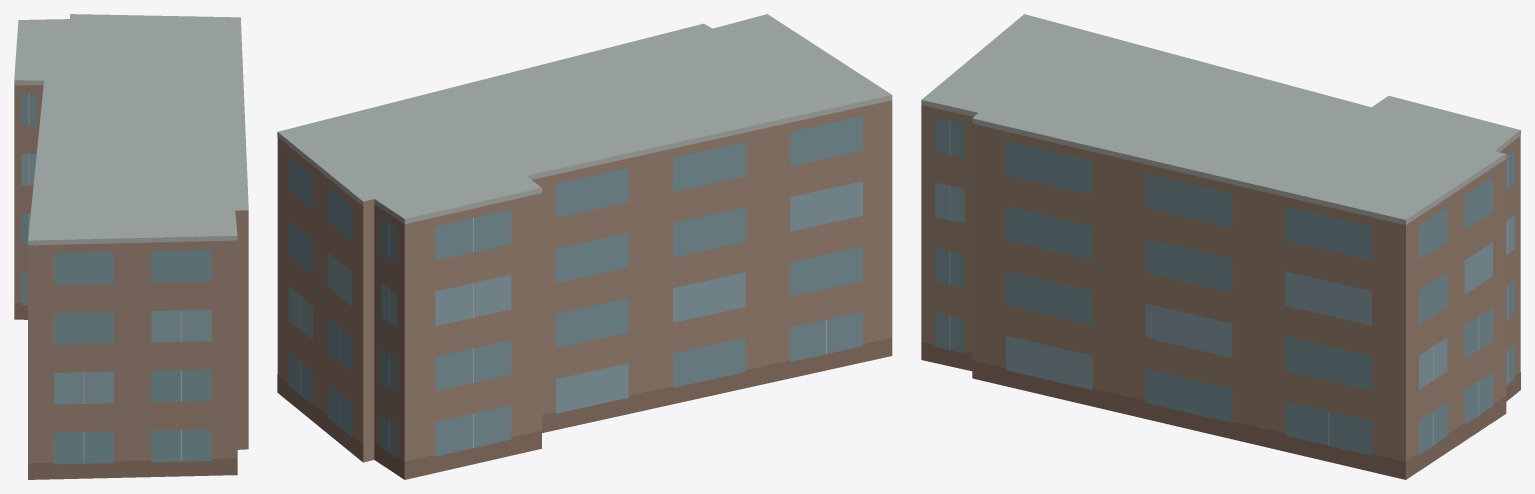
The model's file is survey-upis-32596161.glb.
3 views of the same model, side by side, from view 1: azimuth 30°, elevation 25°; view 2: azimuth 150°, elevation 25°; view 3: azimuth 270°, elevation 25° (orthographic). The views are drawn at different scales.
Parts seen in each view (by area): view 1: survey-upis-32596161.tmp; view 2: survey-upis-32596161.tmp; view 3: survey-upis-32596161.tmp.
Part boxes in pixels (x1,y1,x2,y2): survey-upis-32596161.tmp: (14,14,248,479); survey-upis-32596161.tmp: (277,14,892,479); survey-upis-32596161.tmp: (921,14,1520,479).
Size of the model in its own units: 20.74 by 12.2 by 25.51.
